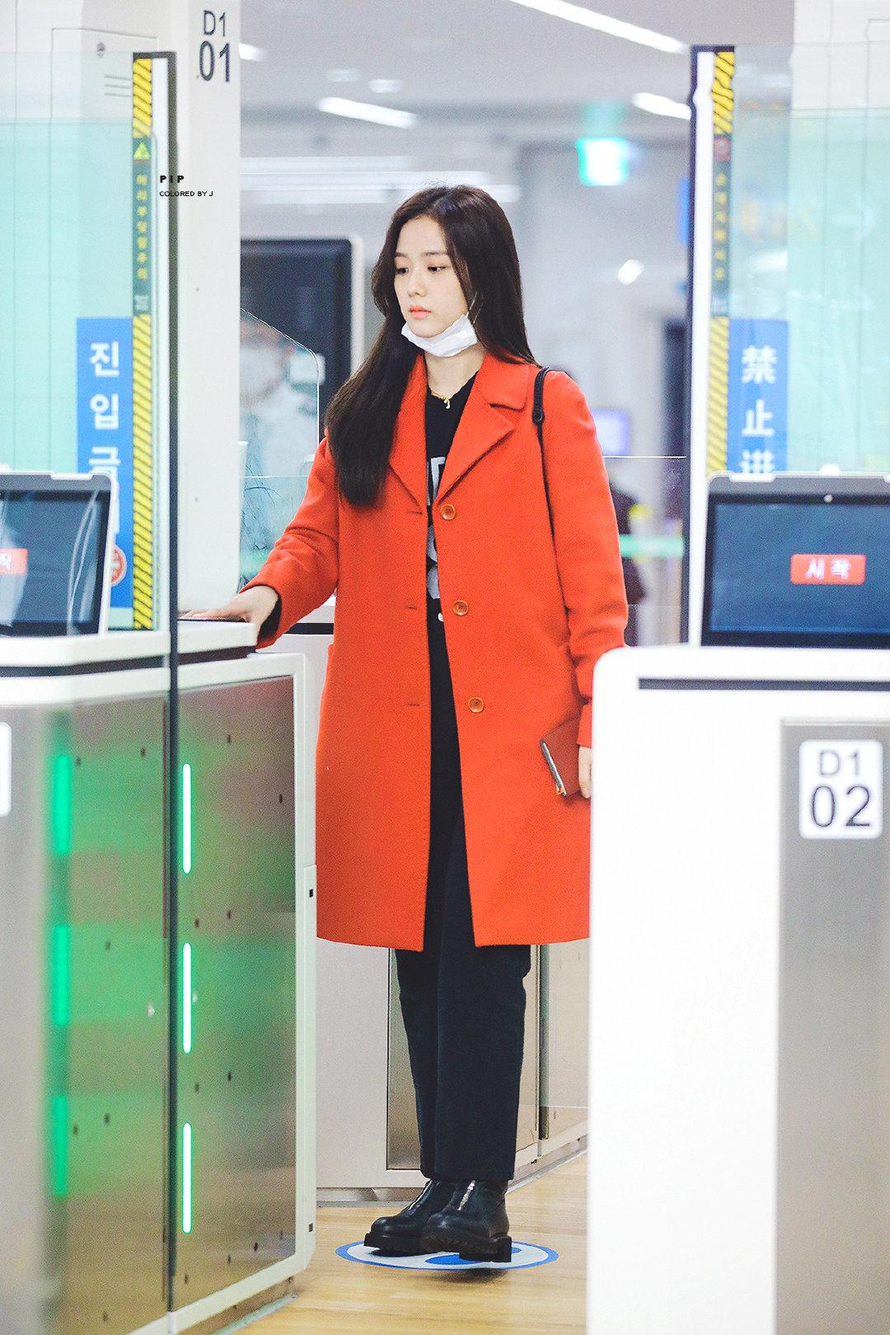WRONG: (395, 237, 477, 348)
